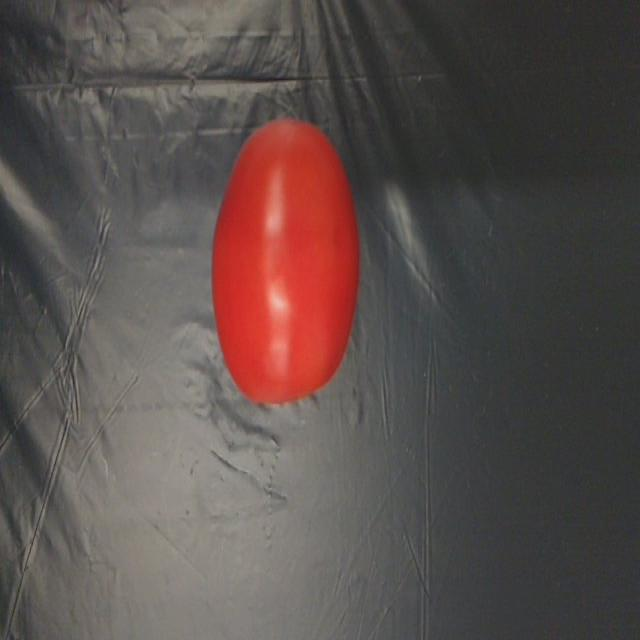kirmizi: (214, 107, 366, 417)
